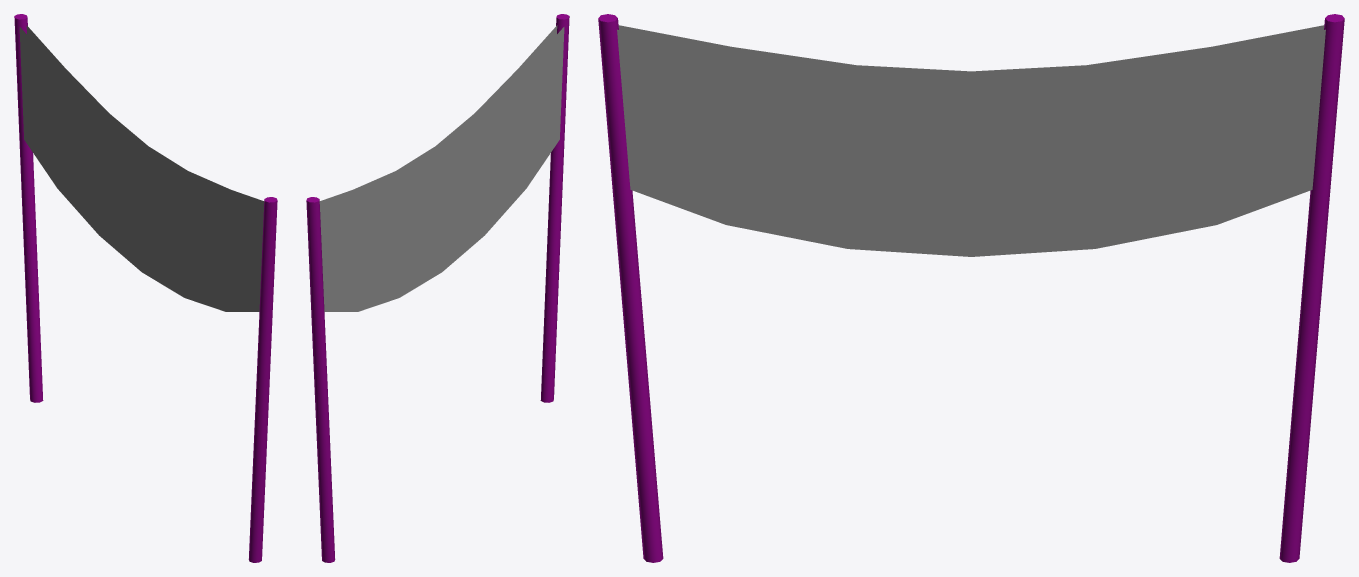
File: Checkpoint2.FBX
3 views of the same model, side by side, from view 1: azimuth 30°, elevation 25°; view 2: azimuth 150°, elevation 25°; view 3: azimuth 270°, elevation 25° (orthographic). The views are drawn at different scales.
Parts seen in each view (by area): view 1: Plane002; view 2: Plane002; view 3: Plane002.
Boxes of the visible parts, bbox=[...] form: Plane002: bbox=[14, 14, 277, 562]; Plane002: bbox=[306, 14, 569, 562]; Plane002: bbox=[598, 14, 1344, 562].
Size of the model in its own units: 1.2 by 36.07 by 45.15.
